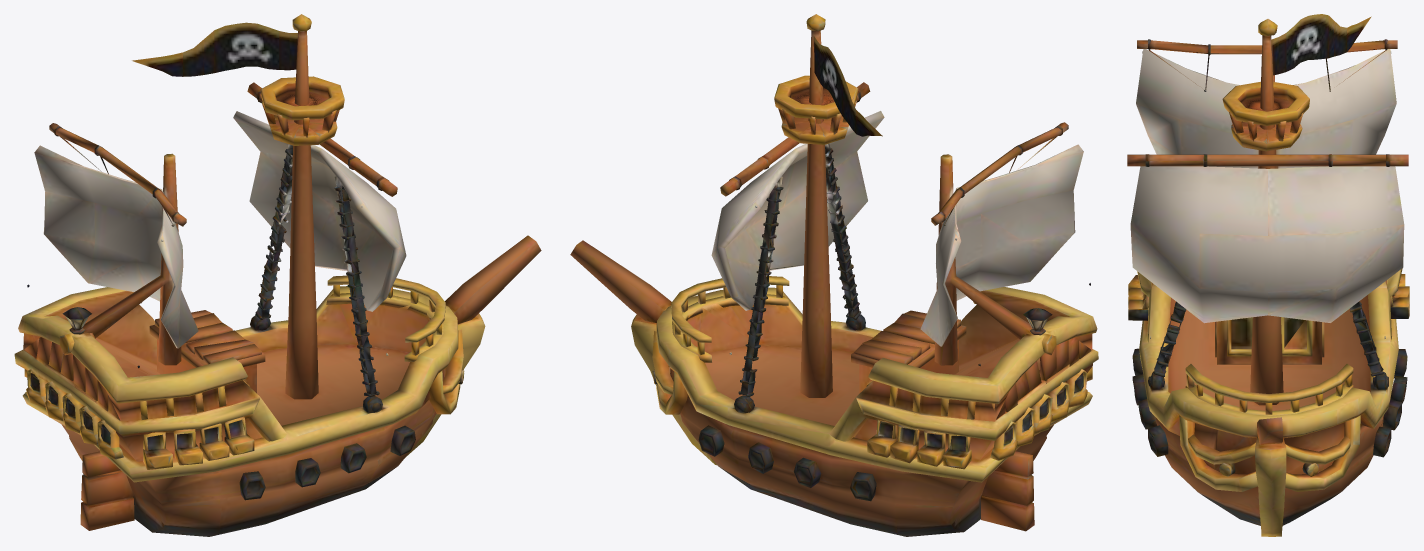
The model's file is bateau.glb.
3 renders of one model, left to right at view 1: azimuth 30°, elevation 25°; view 2: azimuth 150°, elevation 25°; view 3: azimuth 270°, elevation 25°, orthographic.
Visible parts, largest first — view 1: tripo_node_0a61353a-47c1-40f8-9e6a-6828a8e3312b; view 2: tripo_node_0a61353a-47c1-40f8-9e6a-6828a8e3312b; view 3: tripo_node_0a61353a-47c1-40f8-9e6a-6828a8e3312b.
Part boxes in pixels (x1,y1,x2,y2): tripo_node_0a61353a-47c1-40f8-9e6a-6828a8e3312b: (14,14,541,536); tripo_node_0a61353a-47c1-40f8-9e6a-6828a8e3312b: (570,14,1098,536); tripo_node_0a61353a-47c1-40f8-9e6a-6828a8e3312b: (1127,14,1409,536).
Size of the model in its own units: 0.5312 by 0.5 by 0.2713.
Materials: 1 (1 with a texture image).
